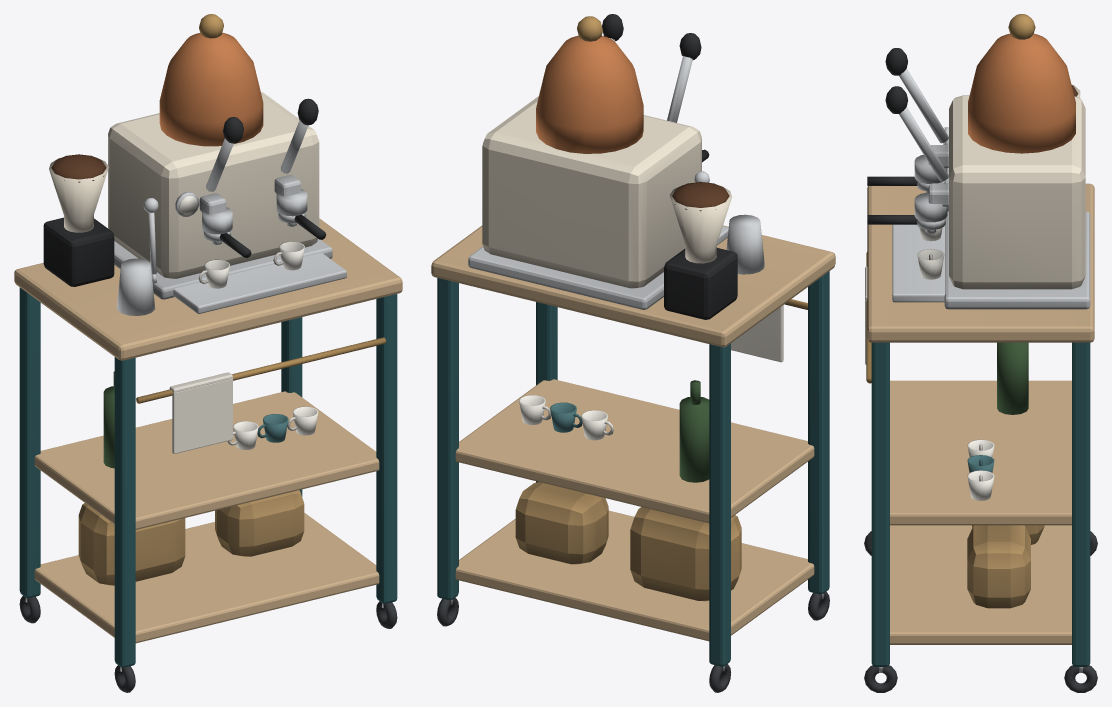
Rendered from espressoBar.glb.
The picture shows the model from 3 angles, left to right: view 1: azimuth 30°, elevation 25°; view 2: azimuth 150°, elevation 25°; view 3: azimuth 270°, elevation 25°; orthographic projection. The views are drawn at different scales.
Parts seen in each view (by area): view 1: body, wand; view 2: body; view 3: body.
Boxes of the visible parts, box(x1,y1,x2,y2) form: body: box(14, 14, 402, 692); wand: box(143, 198, 158, 283); body: box(431, 14, 835, 692); body: box(864, 14, 1097, 692).
Bounding box in the file's own units: 0.76 × 1.51 × 0.514.
